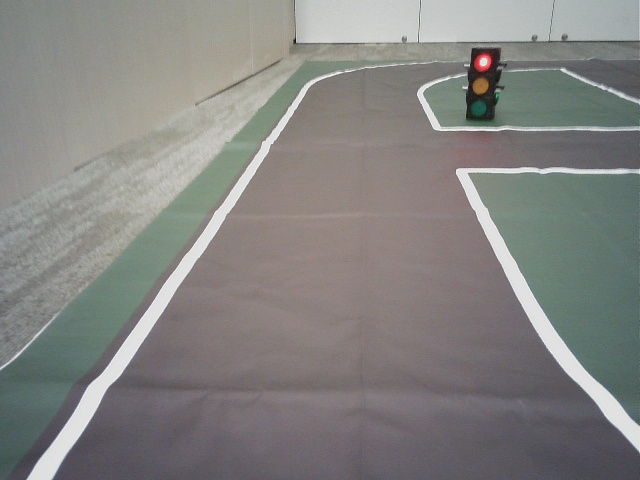red: (471, 49, 489, 116)
